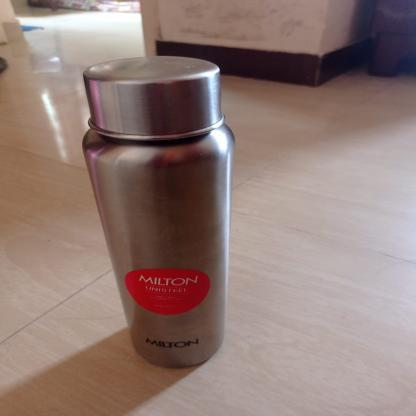bottle: (66, 0, 262, 172)
